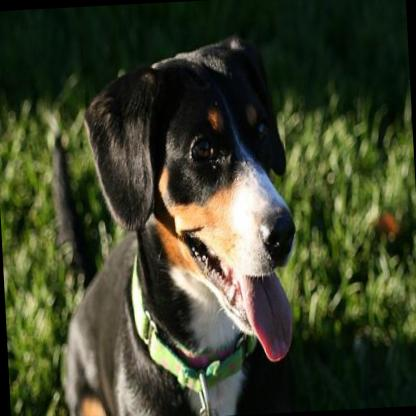EntleBucher: (29, 25, 305, 416)
